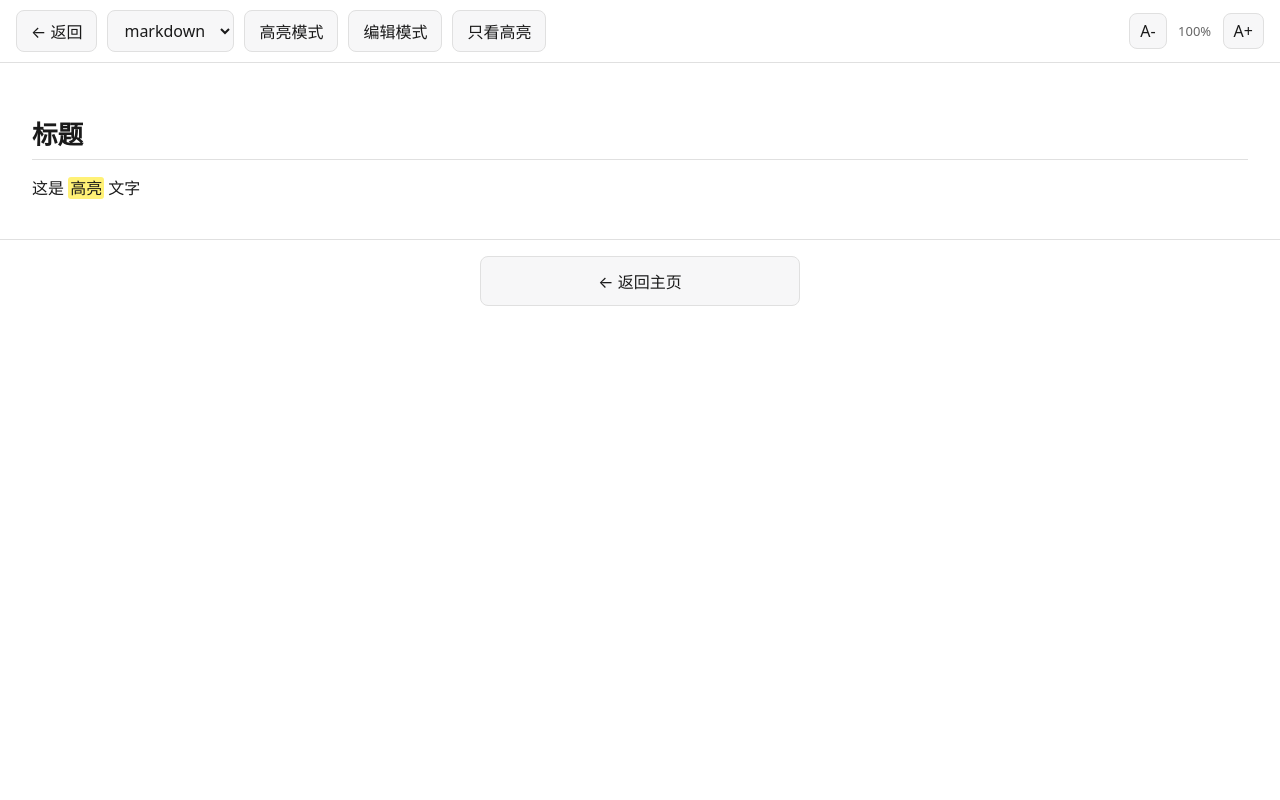
Test: PreviewScreen edit mode (markdown only) › 点「保存」弹出覆盖/另存选项
Click the button "编辑模式": (396, 31) x1=348 y1=10 x2=442 y2=52
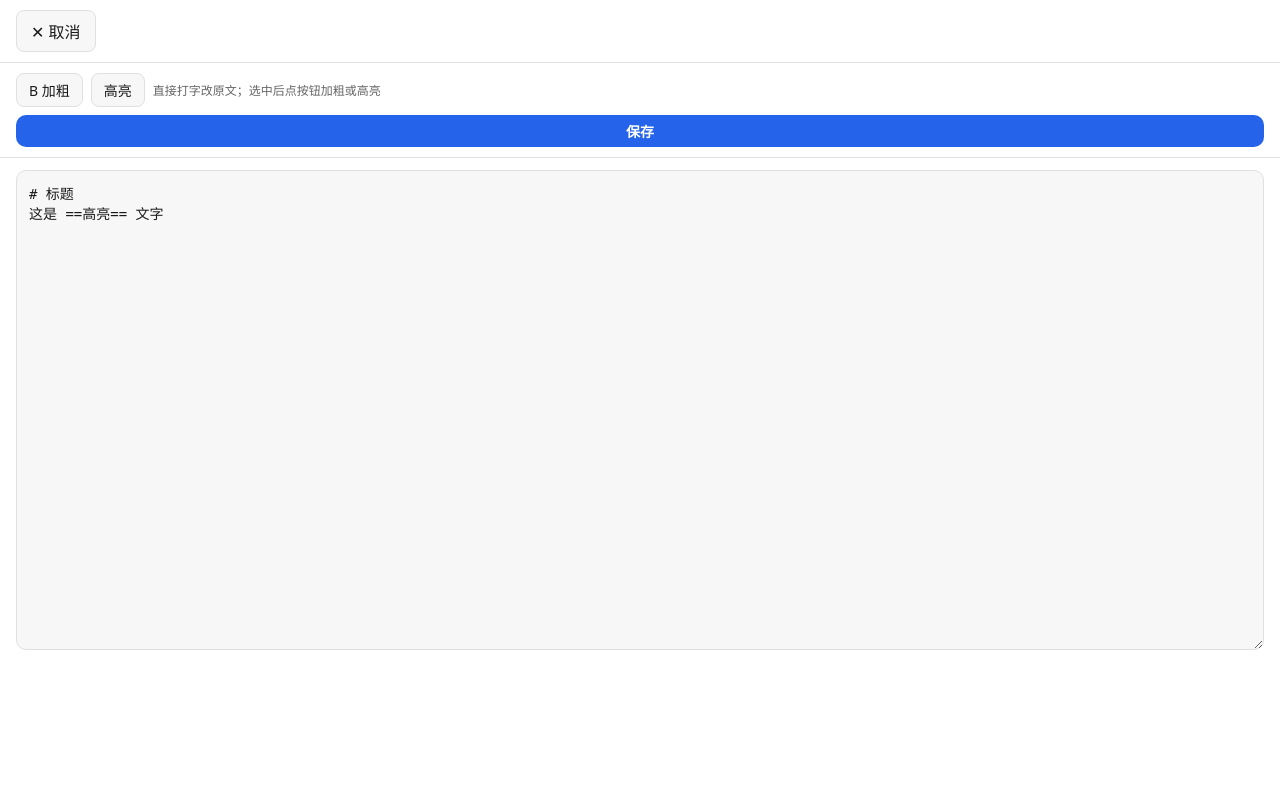
Click the button "保存": (640, 131) x1=16 y1=115 x2=1264 y2=147
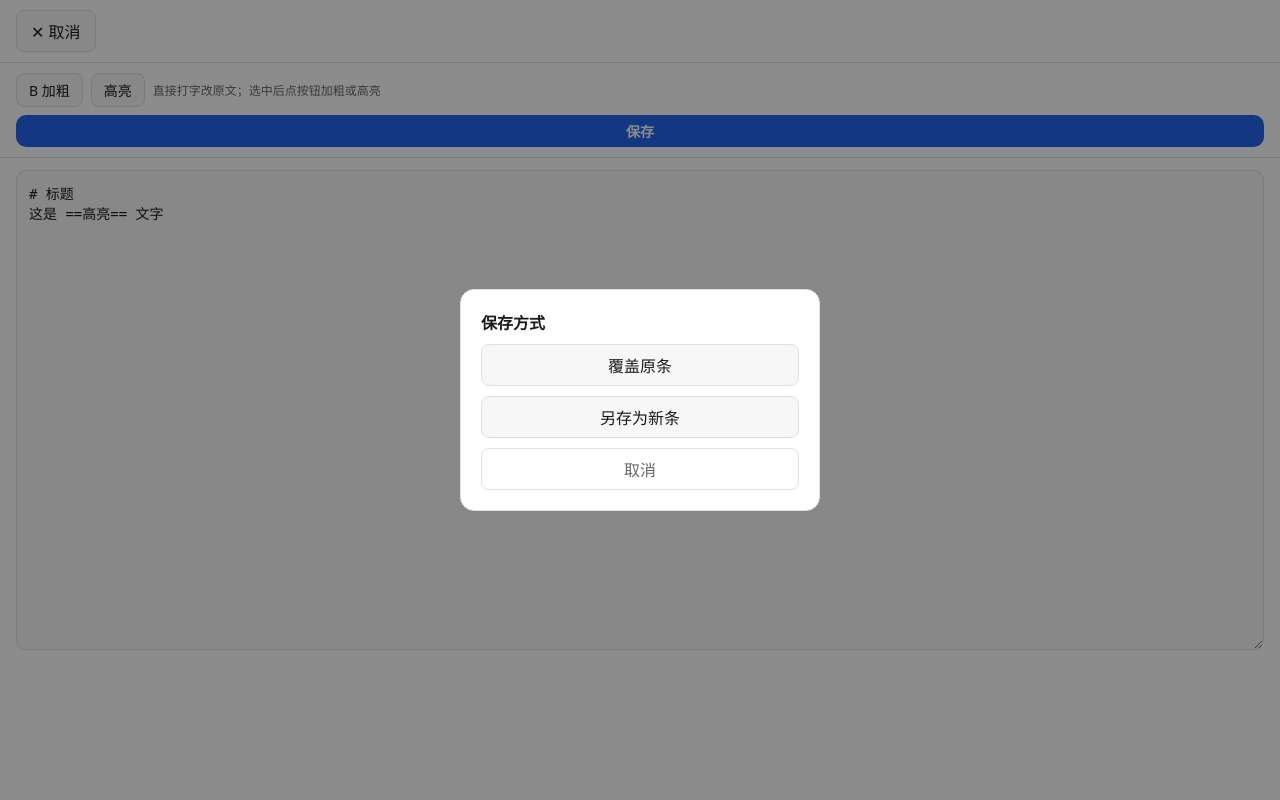
Now the button "覆盖原条" is shown, box x1=481 y1=344 x2=799 y2=386
Now the button "另存为新条" is shown, box x1=481 y1=396 x2=799 y2=438
